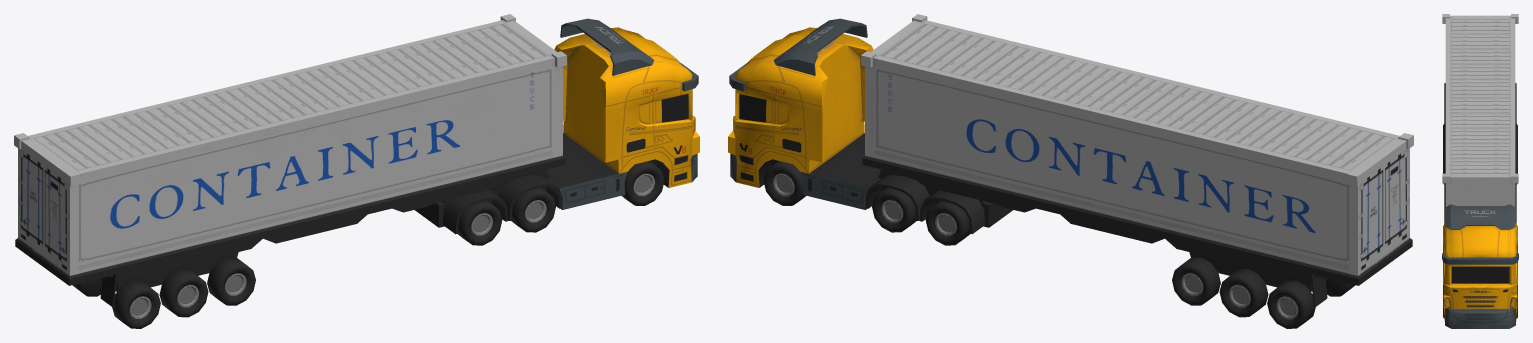
Rendered from Truck.fbx.
3 renders of one model, left to right at view 1: azimuth 30°, elevation 25°; view 2: azimuth 150°, elevation 25°; view 3: azimuth 270°, elevation 25°, orthographic. The views are drawn at different scales.
Visible parts, largest first — view 1: Truck, Wheel.009, Wheel.008, Wheel.007, Wheel.003, Wheel, Wheel 1_R; view 2: Truck, Wheel.004, Wheel.005, Wheel.006, Wheel.002, Wheel.001, Wheel 1_L; view 3: Truck.
Part boxes in pixels (x1,y1,x2,y2): Truck: (14,14,699,307); Wheel.009: (207,257,255,305); Wheel.008: (159,269,208,317); Wheel.007: (112,280,160,328); Wheel.003: (511,187,555,232); Wheel: (458,200,502,245); Wheel 1_R: (621,161,664,205); Truck: (728,14,1413,307); Wheel.004: (1172,257,1220,305); Wheel.005: (1219,269,1268,317); Wheel.006: (1267,280,1315,328); Wheel.002: (872,187,916,232); Wheel.001: (925,200,969,245); Wheel 1_L: (763,161,806,205); Truck: (1442,14,1518,328).
Size of the model in its own units: 15.98 by 4.13 by 2.5.
1 material, 1 textured.
